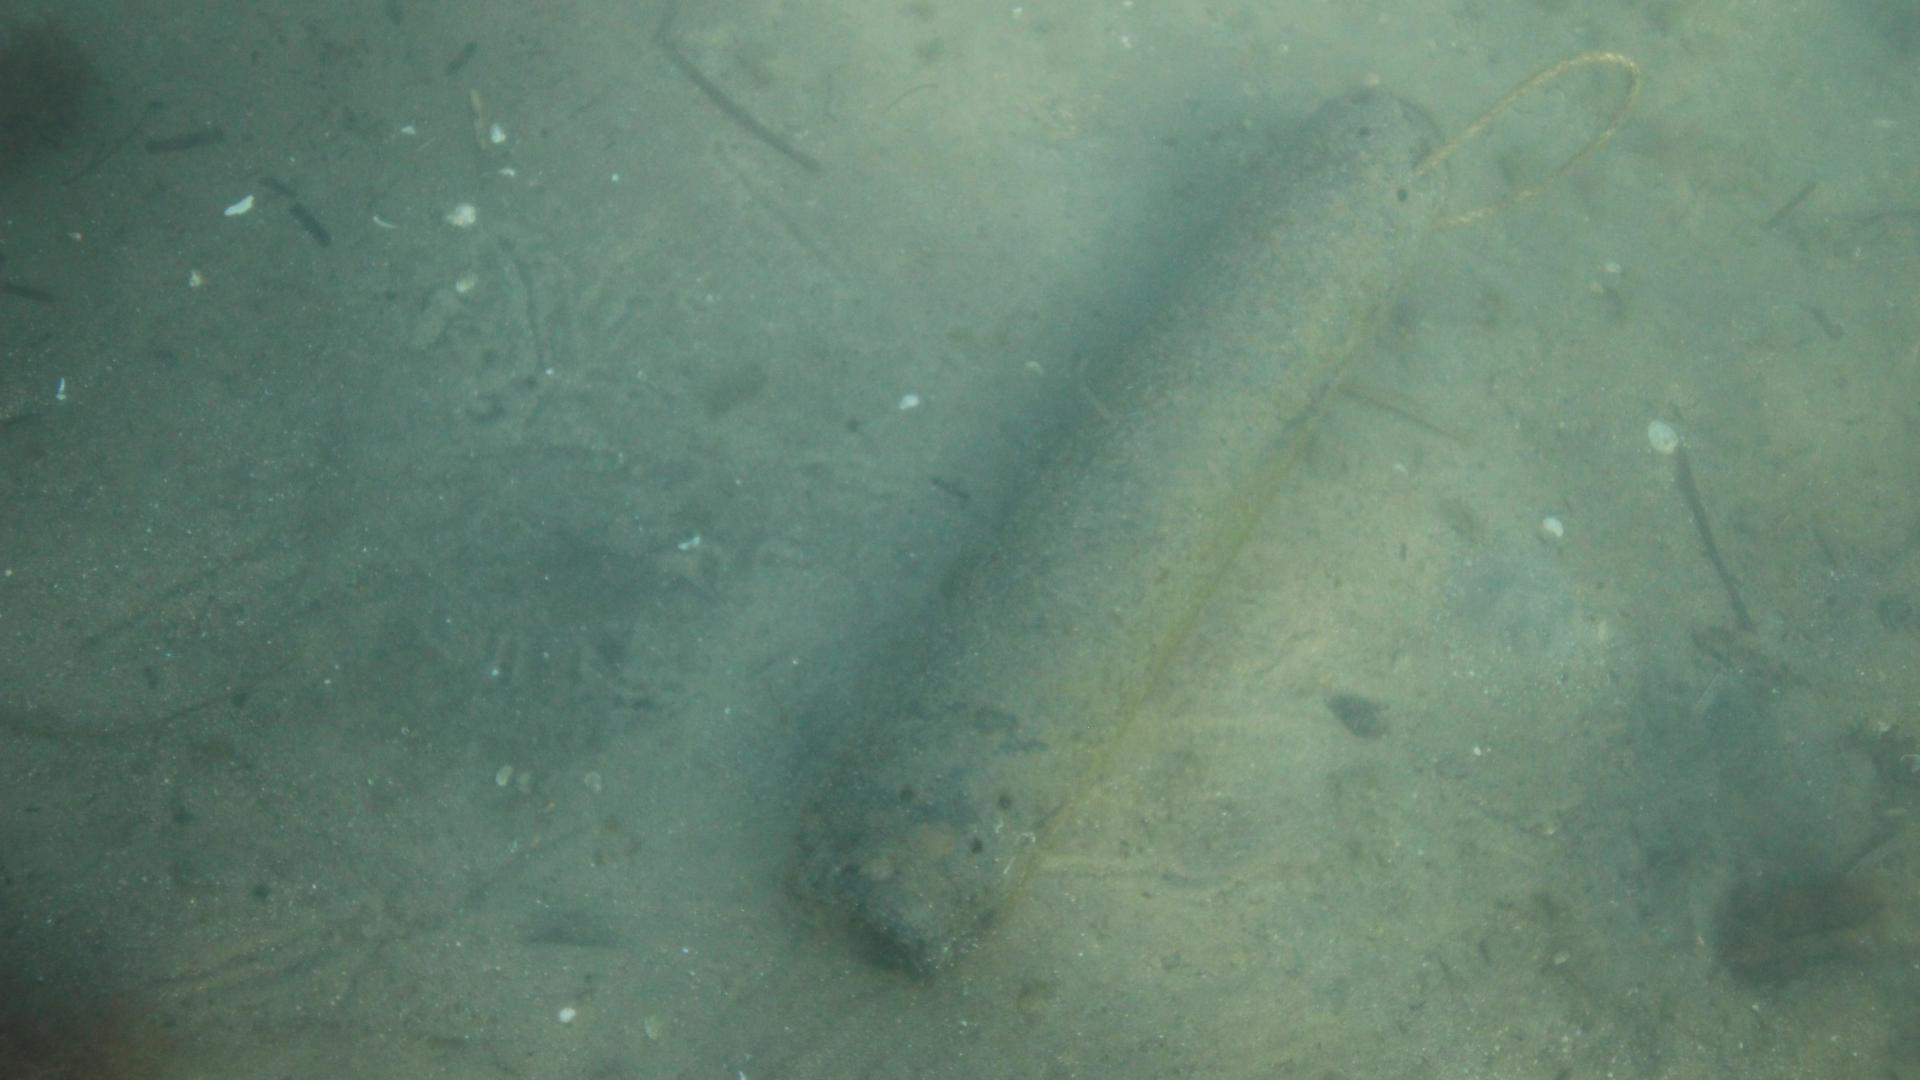eel fish trap: (781, 86, 1451, 988)
rope: (1416, 49, 1646, 228)
